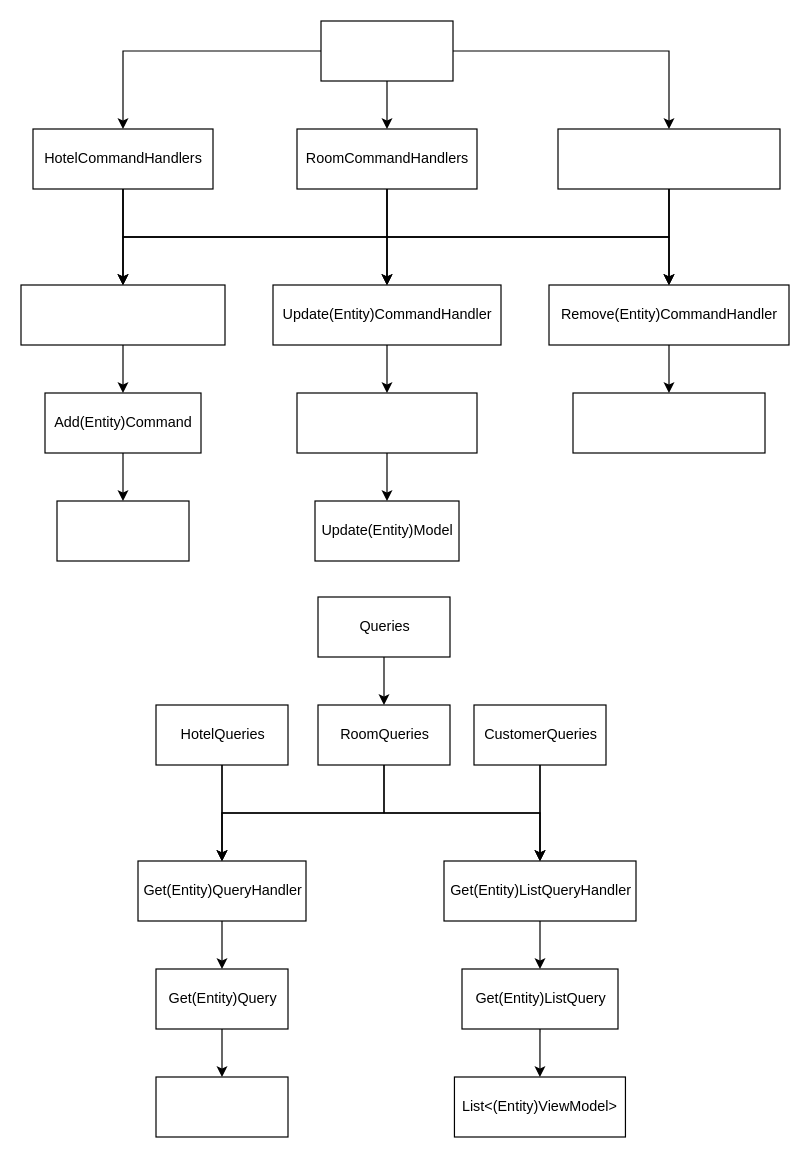
The diagram is 810 pixels wide and 1158 high, and some of its shapes have lost their labels. The centre of each missing label's shape, as x and y in pixels:
(Entity)ViewModel: the point at 221,1106
Add(Entity)CommandHandler: the point at 122,314
Add(Entity)Model: the point at 122,530
Commands: the point at 386,50
CustomerCommandHandlers: the point at 668,158
Remove(Entity)Command: the point at 668,422
Update(Entity)Command: the point at 386,422
